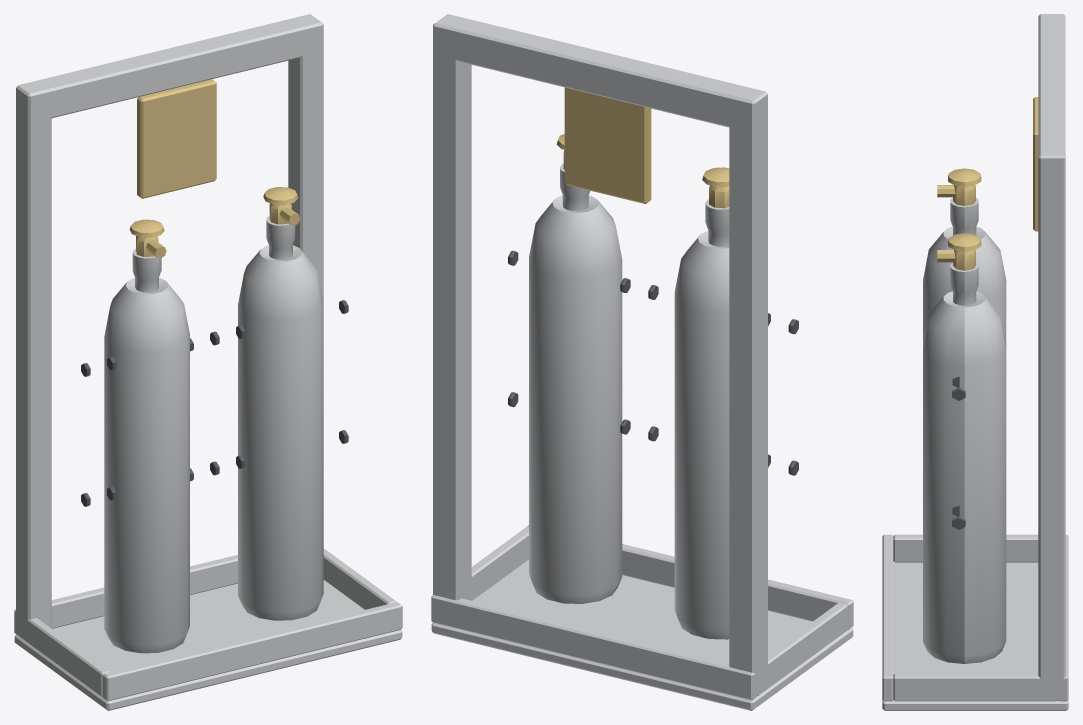
The model's file is bar-pub-and-brewery-taproom-gas-cylinder-rack-12b9d332__18356.glb.
3 renders of one model, left to right at view 1: azimuth 30°, elevation 25°; view 2: azimuth 150°, elevation 25°; view 3: azimuth 270°, elevation 25°, orthographic. The views are drawn at different scales.
Visible parts, largest first — view 1: gas-cylinder-rack; view 2: gas-cylinder-rack; view 3: gas-cylinder-rack.
Part boxes in pixels (left/top/right/bottom): gas-cylinder-rack: left=14, top=14, right=402, bottom=710; gas-cylinder-rack: left=431, top=14, right=853, bottom=710; gas-cylinder-rack: left=882, top=14, right=1068, bottom=710.
Size of the model in its own units: 0.62 by 1.12 by 0.3401.
